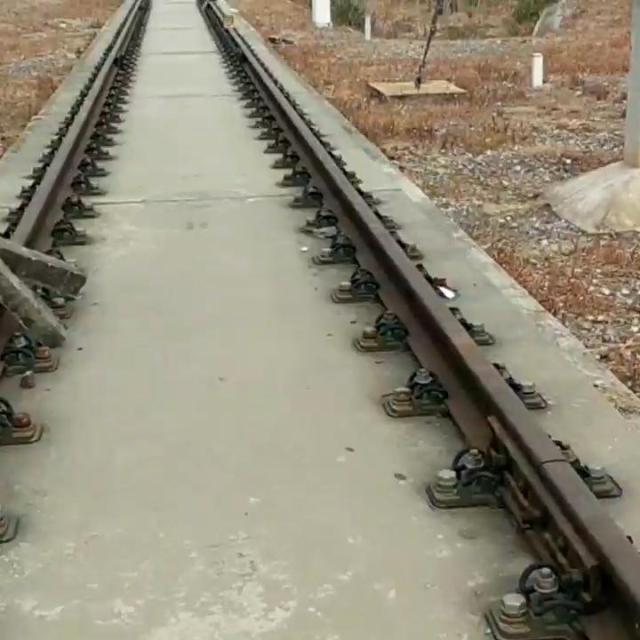danger: (0, 229, 92, 393)
rail: (199, 0, 640, 612), (11, 0, 144, 251)
